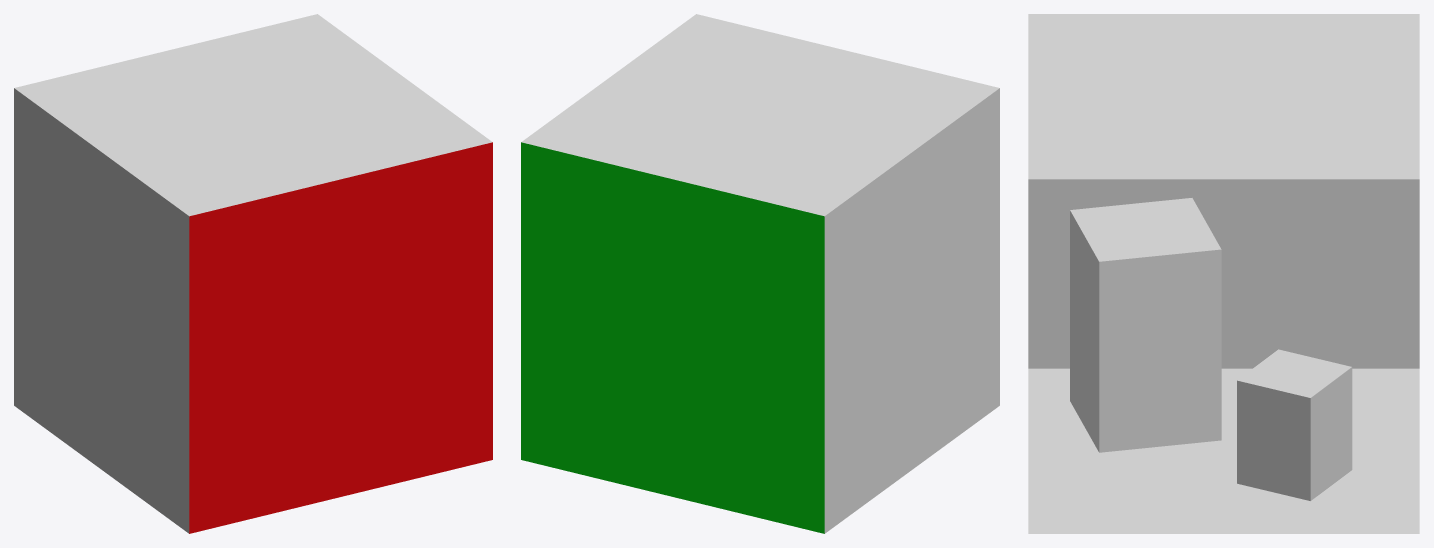
3 views of the same model, side by side, from view 1: azimuth 30°, elevation 25°; view 2: azimuth 150°, elevation 25°; view 3: azimuth 270°, elevation 25° (orthographic). The views are drawn at different scales.
Visible parts, largest first — view 1: Cube; view 2: Cube; view 3: Cube, Cube.001, Cube.002.
Part boxes in pixels (bbox=[...]): Cube: bbox=[14, 14, 492, 533]; Cube: bbox=[521, 14, 999, 533]; Cube: bbox=[1028, 14, 1419, 533]; Cube.001: bbox=[1070, 198, 1221, 452]; Cube.002: bbox=[1237, 349, 1352, 500].
Bounding box in the file's own units: 2 × 2 × 2.
